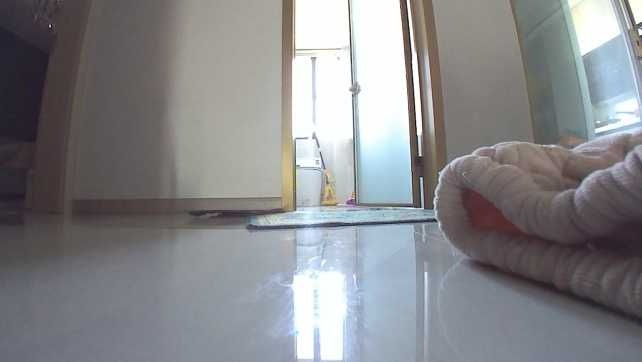blanket: (248, 207, 438, 230)
door_anno: (344, 0, 440, 207)
toilet: (294, 161, 325, 206)
weight_scale: (185, 204, 280, 218)
